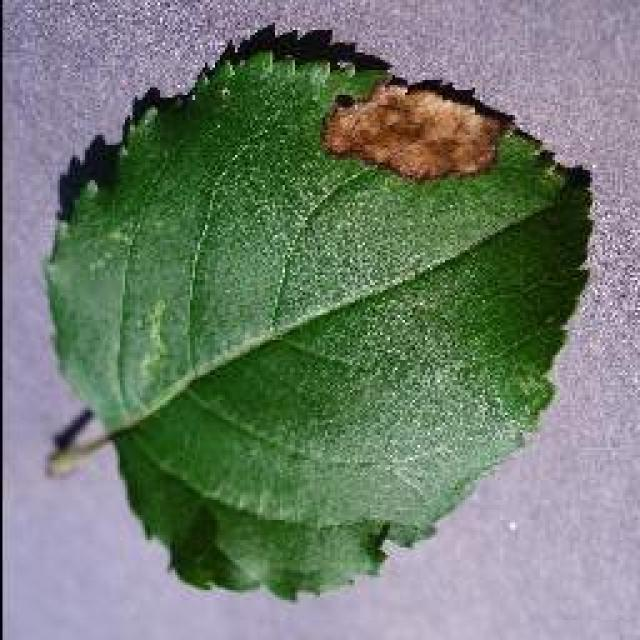apple black rot: (40, 20, 595, 600)
